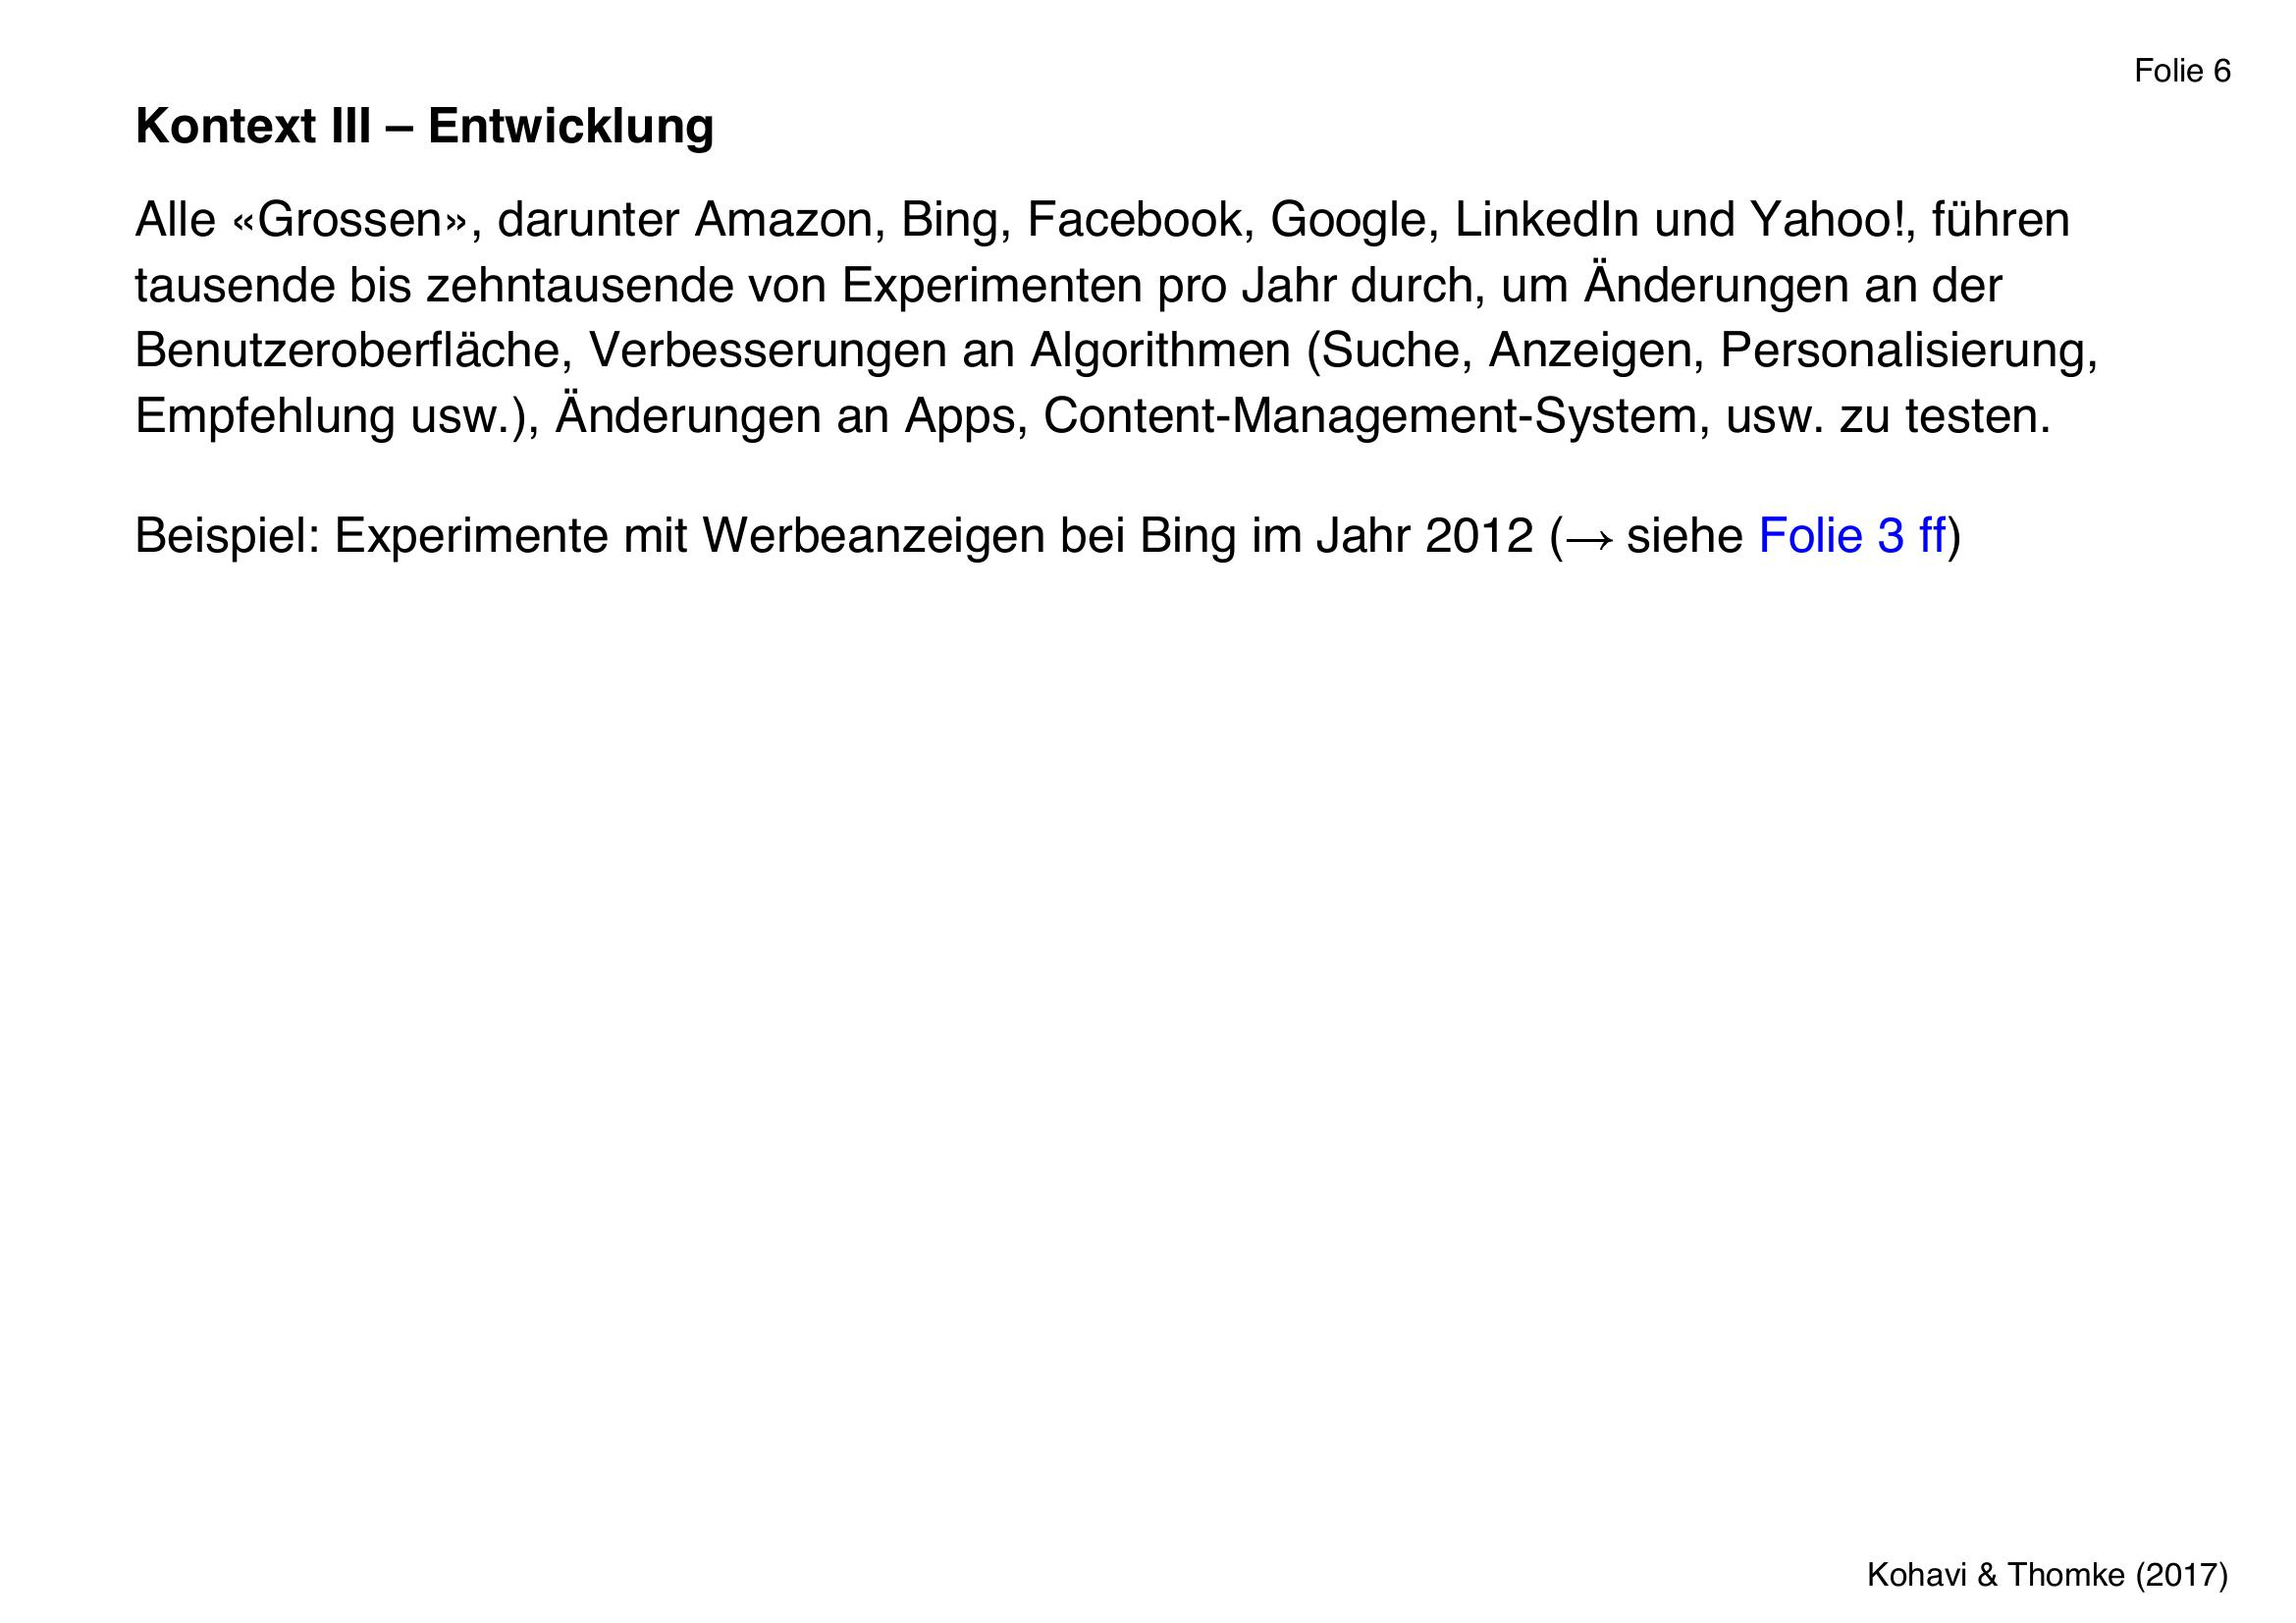Title: (111, 90, 732, 160)
